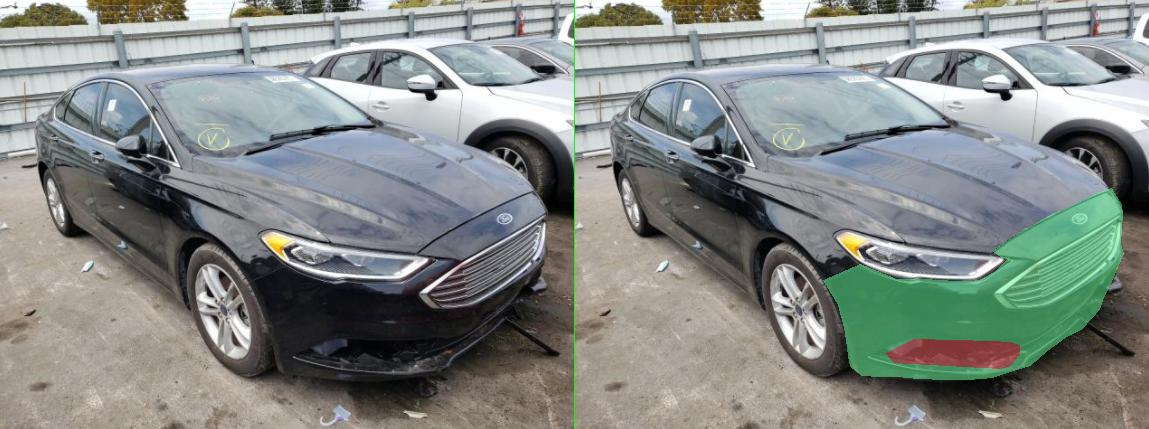Broken part: (496, 188, 1097, 379)
Missing part: (621, 339, 889, 368)
